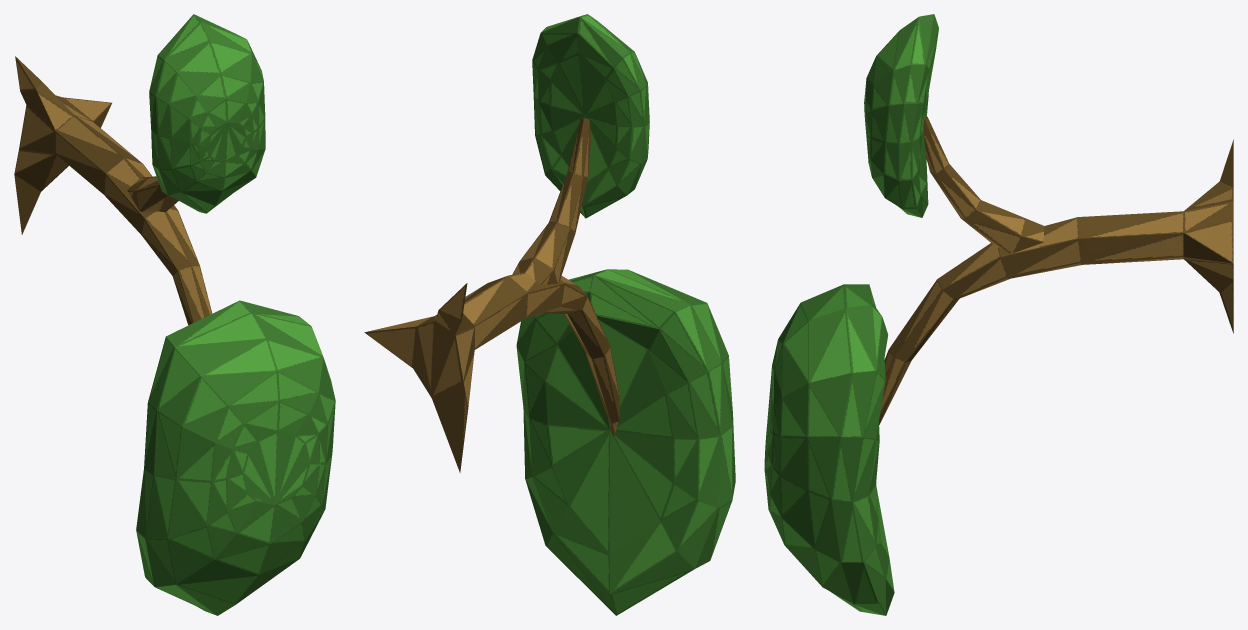
File: Tree_002.obj
3 renders of one model, left to right at view 1: azimuth 30°, elevation 25°; view 2: azimuth 150°, elevation 25°; view 3: azimuth 270°, elevation 25°, orthographic. The views are drawn at different scales.
Parts seen in each view (by area): view 1: Tree_02; view 2: Tree_02; view 3: Tree_02.
Part boxes in pixels (x1,y1,x2,y2): Tree_02: [14, 14, 335, 615]; Tree_02: [364, 14, 735, 615]; Tree_02: [764, 14, 1233, 615].
Bounding box in the file's own units: 32.02 × 93.3 × 65.24.
